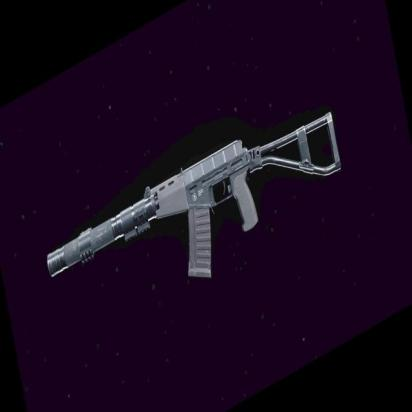Gun: (45, 109, 342, 288)
